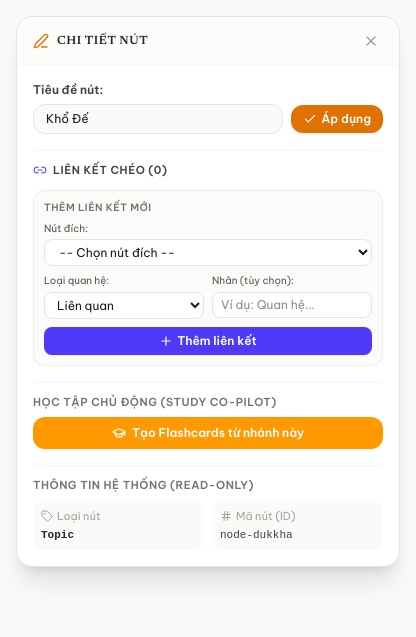
Scenario: Phase M5a — MindMapNodeDrawer Cross-Link Editing UI › Scenario 3: Rejects self-link (linking node to itself)
Expected: the element with test id "mindmap-crosslinks-section" is shown, [33,150,383,366]
Select "Khổ Đế (node-dukkha)" in the dropdown with test id "crosslink-target-select": (208, 253) [44,239,372,266]
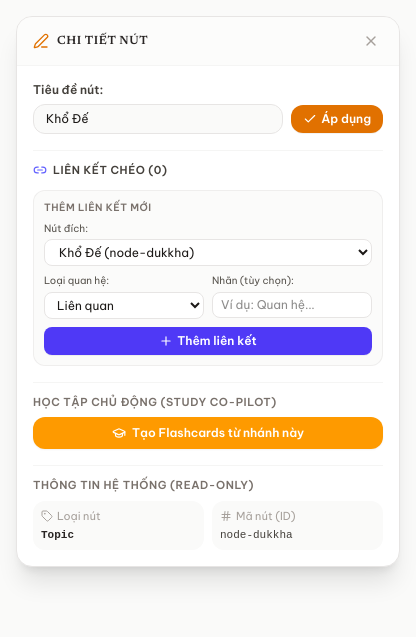
Click the button with test id "crosslink-add-btn": (208, 341) [44,327,372,355]
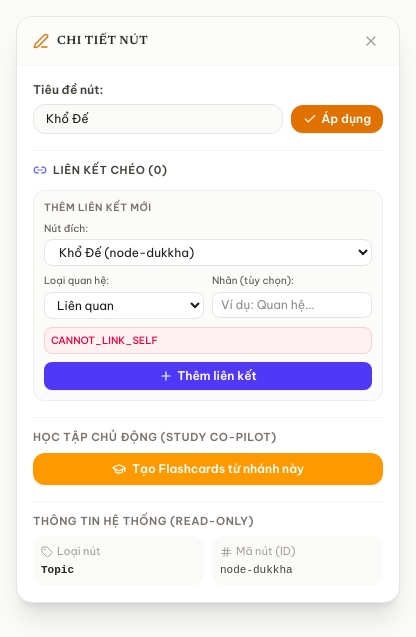
Expected: the text "CANNOT_LINK_SELF" is shown, [44,327,372,354]
